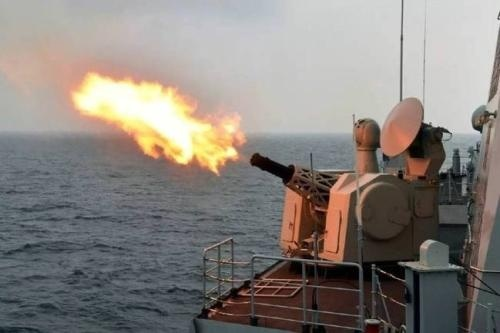fire: (71, 71, 252, 173)
